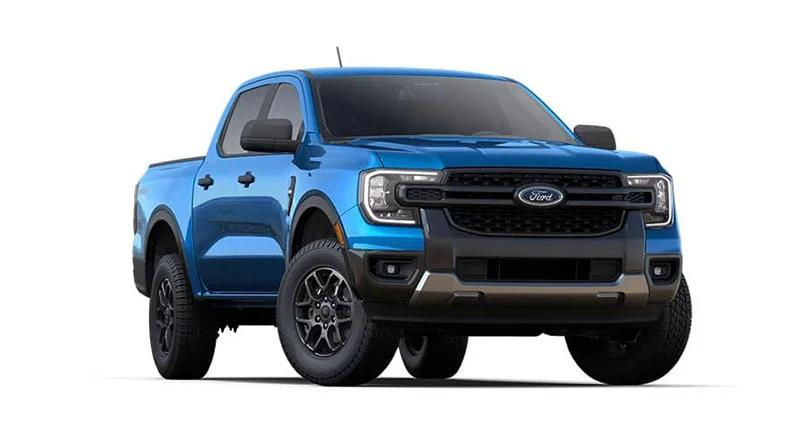car: (128, 42, 697, 396)
